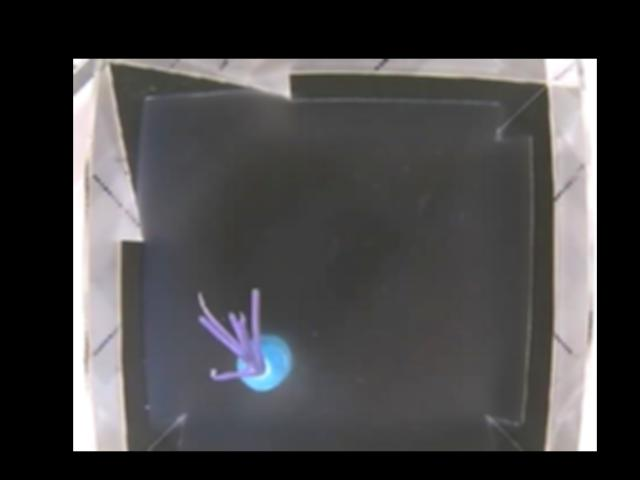Carrot: (195, 291, 292, 394)
